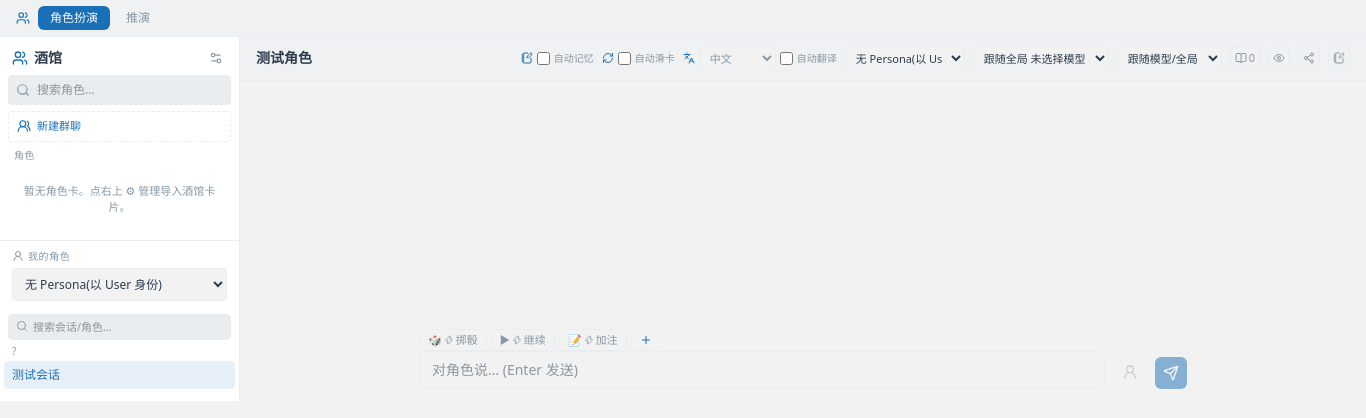
TavernView 记忆图谱关闭 › 打开图谱后按 Esc 关闭面板
This screenshot has width=1366, height=418.
# 点击标题栏图谱按钮打开面板
Click the button titled "记忆图谱": (1309, 58) [1298, 47, 1320, 69]
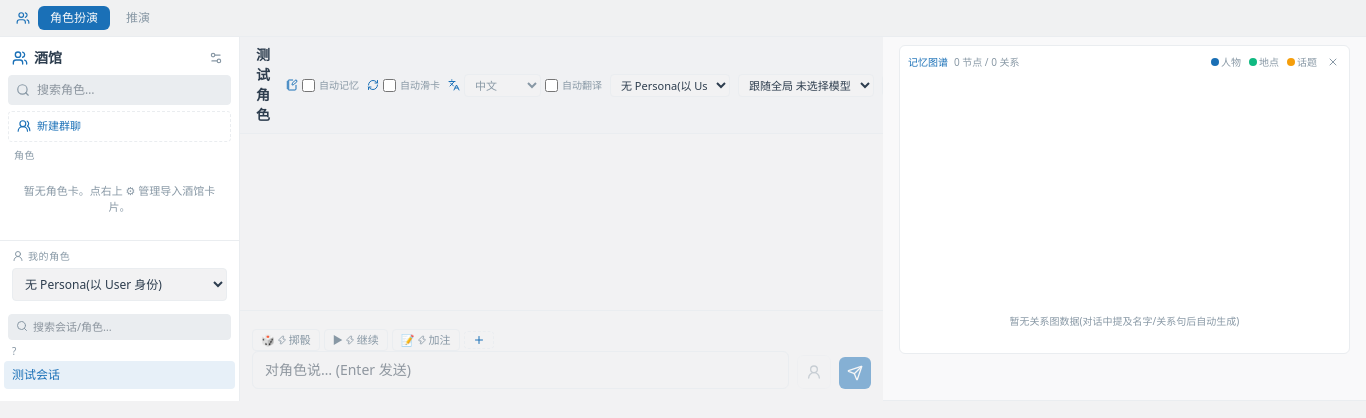
Expected: the text "0 节点 / 0 关系" is shown, [954, 54, 1020, 70]
Press Escape
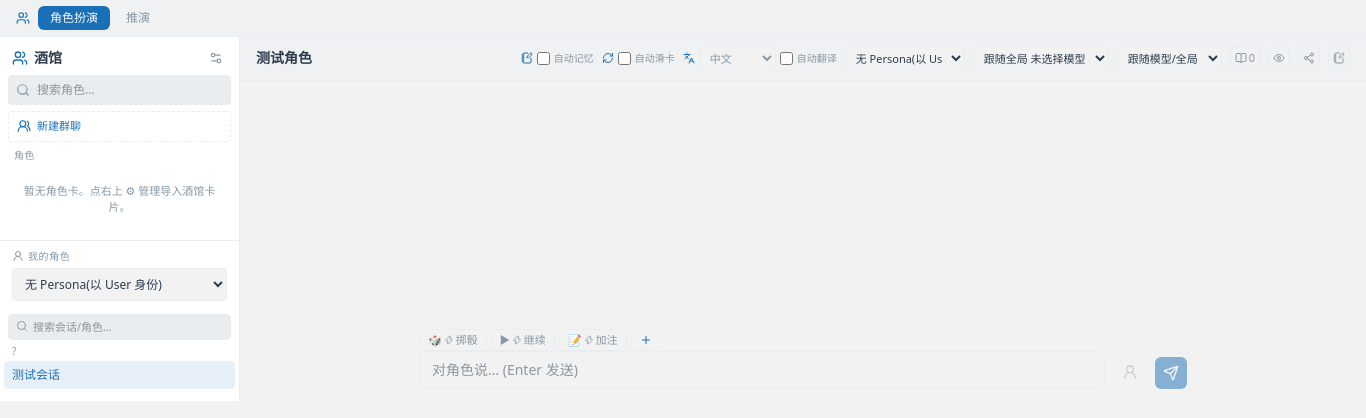
Expected: the text "0 节点 / 0 关系" is gone
